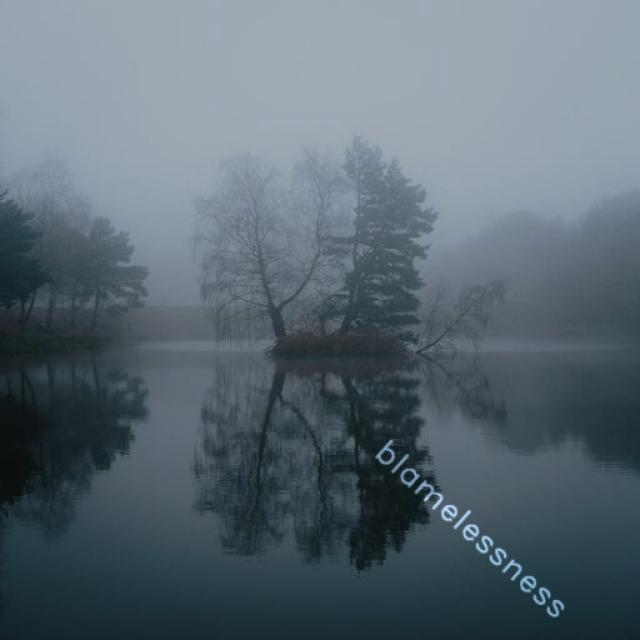watermark: (364, 429, 580, 626)
